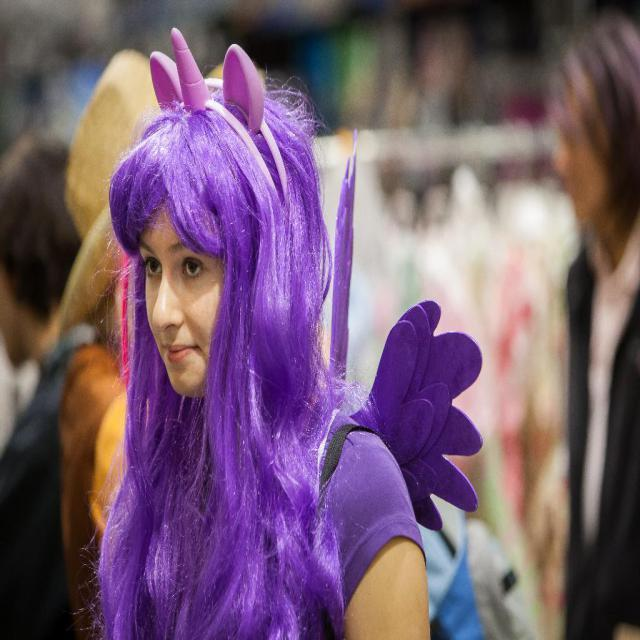closed-mouth: (162, 338, 201, 363)
